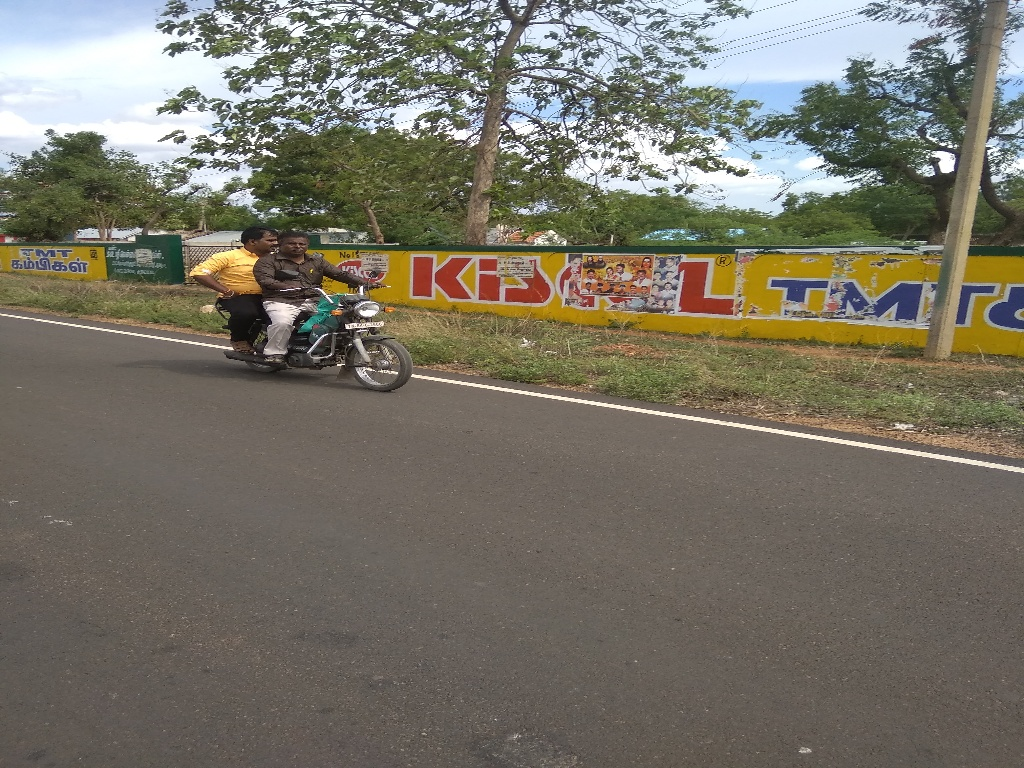biker: (178, 179, 432, 409)
nohelmet: (279, 222, 322, 270), (241, 210, 284, 258)
